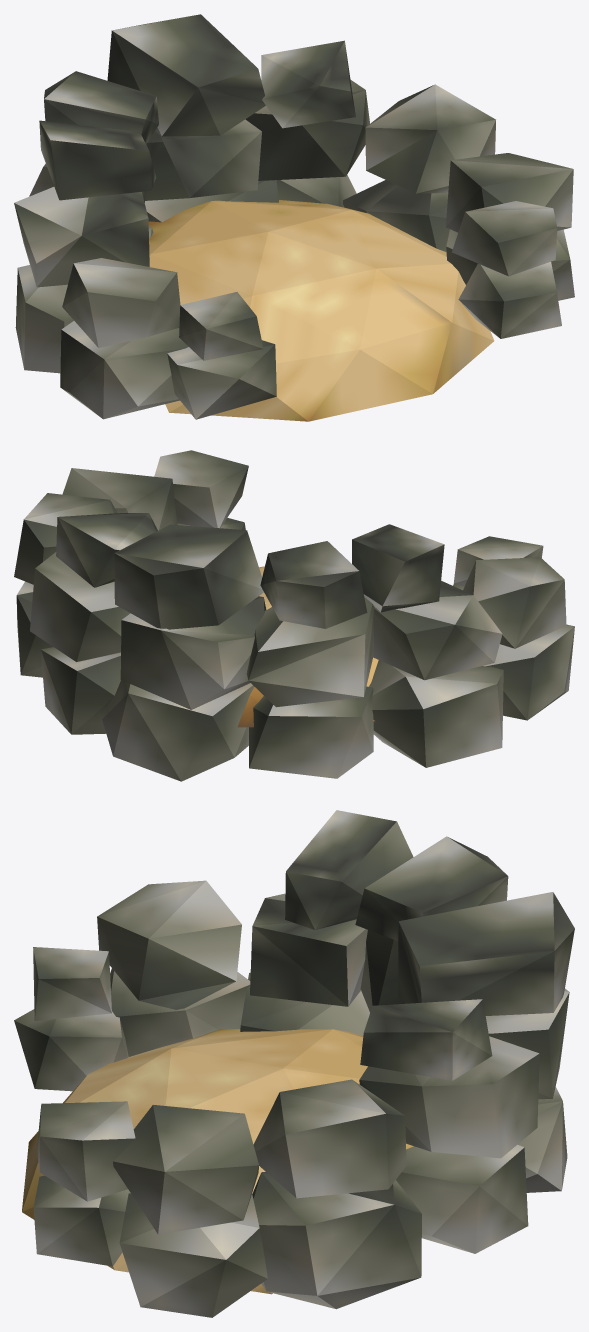
Rendered from Poly_Fire_Camp_01.obj.
3 views of the same model, one above another, from view 1: azimuth 30°, elevation 25°; view 2: azimuth 150°, elevation 25°; view 3: azimuth 270°, elevation 25° (orthographic). The views are drawn at different scales.
Visible parts, largest first — view 1: Cube.007, Icosphere; view 2: Cube.007, Icosphere; view 3: Cube.007, Icosphere.
Part boxes in pixels (left/top/right/bottom): Cube.007: left=14, top=14, right=574, bottom=419; Icosphere: left=148, top=200, right=494, bottom=421; Cube.007: left=14, top=450, right=574, bottom=781; Icosphere: left=237, top=566, right=378, bottom=727; Cube.007: left=14, top=810, right=574, bottom=1317; Icosphere: left=22, top=1029, right=413, bottom=1294.
Bounding box in the file's own units: 1.04 × 0.437 × 0.8328.
Materials: 1 (1 with a texture image).
